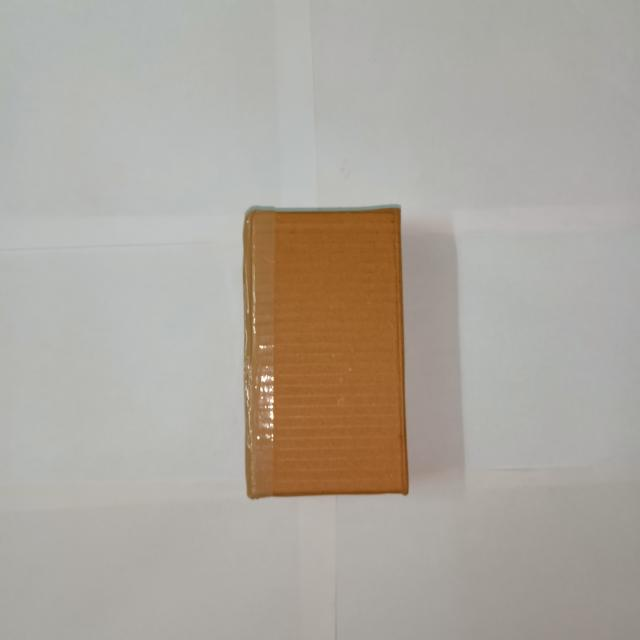box: (243, 207, 411, 503)
